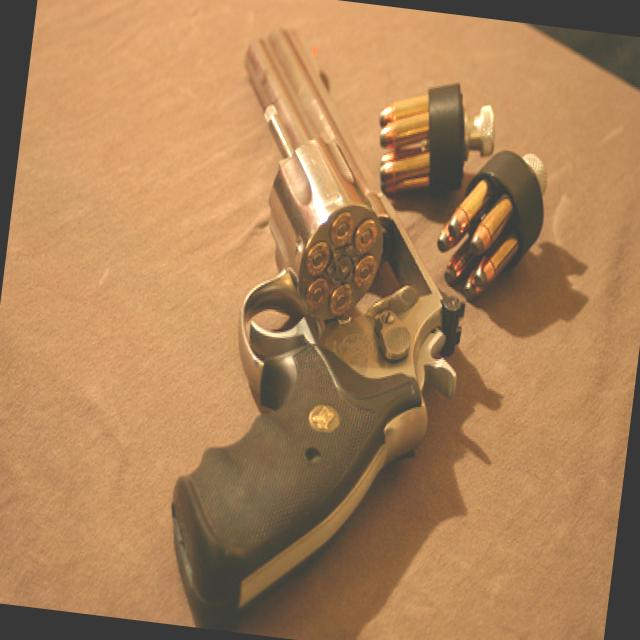handgun: (151, 15, 499, 638)
